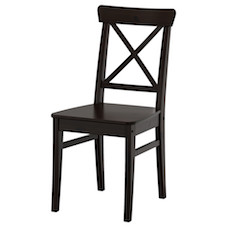chair: (44, 5, 185, 223)
